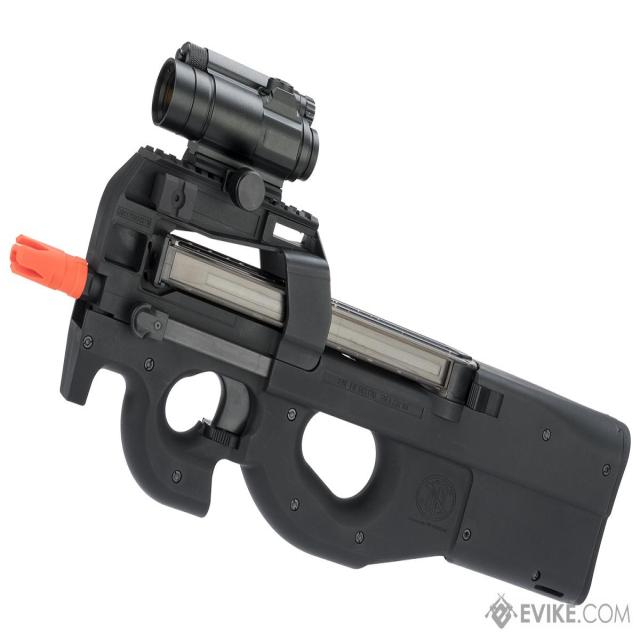Gun: (16, 14, 640, 640)
